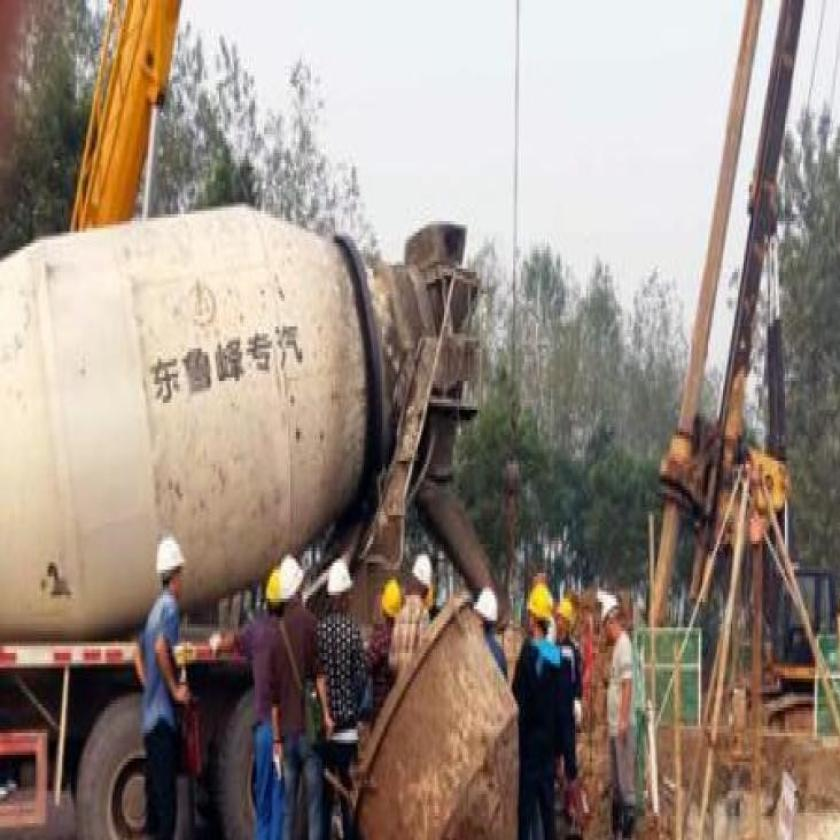Con_casco: (156, 534, 184, 606), (323, 560, 355, 619), (278, 555, 305, 612)
